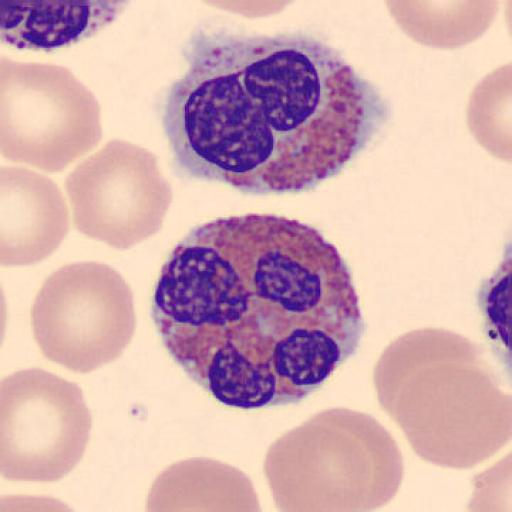RBC: (392, 361, 512, 471), (29, 258, 139, 375), (64, 137, 174, 251), (2, 56, 105, 174), (372, 324, 480, 428), (301, 404, 406, 510), (2, 364, 93, 484), (262, 419, 372, 512), (2, 164, 71, 268), (143, 454, 264, 512), (382, 0, 501, 51), (466, 60, 512, 166), (466, 447, 512, 512), (183, 0, 306, 21), (0, 492, 92, 511)
WBC: (148, 212, 368, 410), (163, 29, 393, 192), (0, 1, 142, 54), (0, 2, 137, 54), (478, 248, 512, 396)
